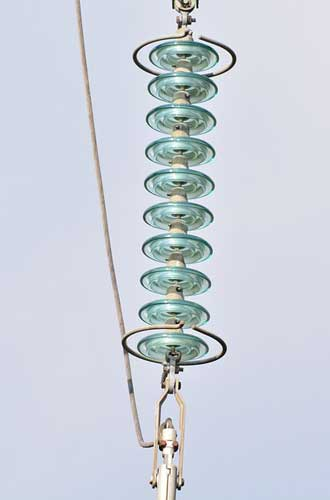isolator: (135, 41, 219, 363)
